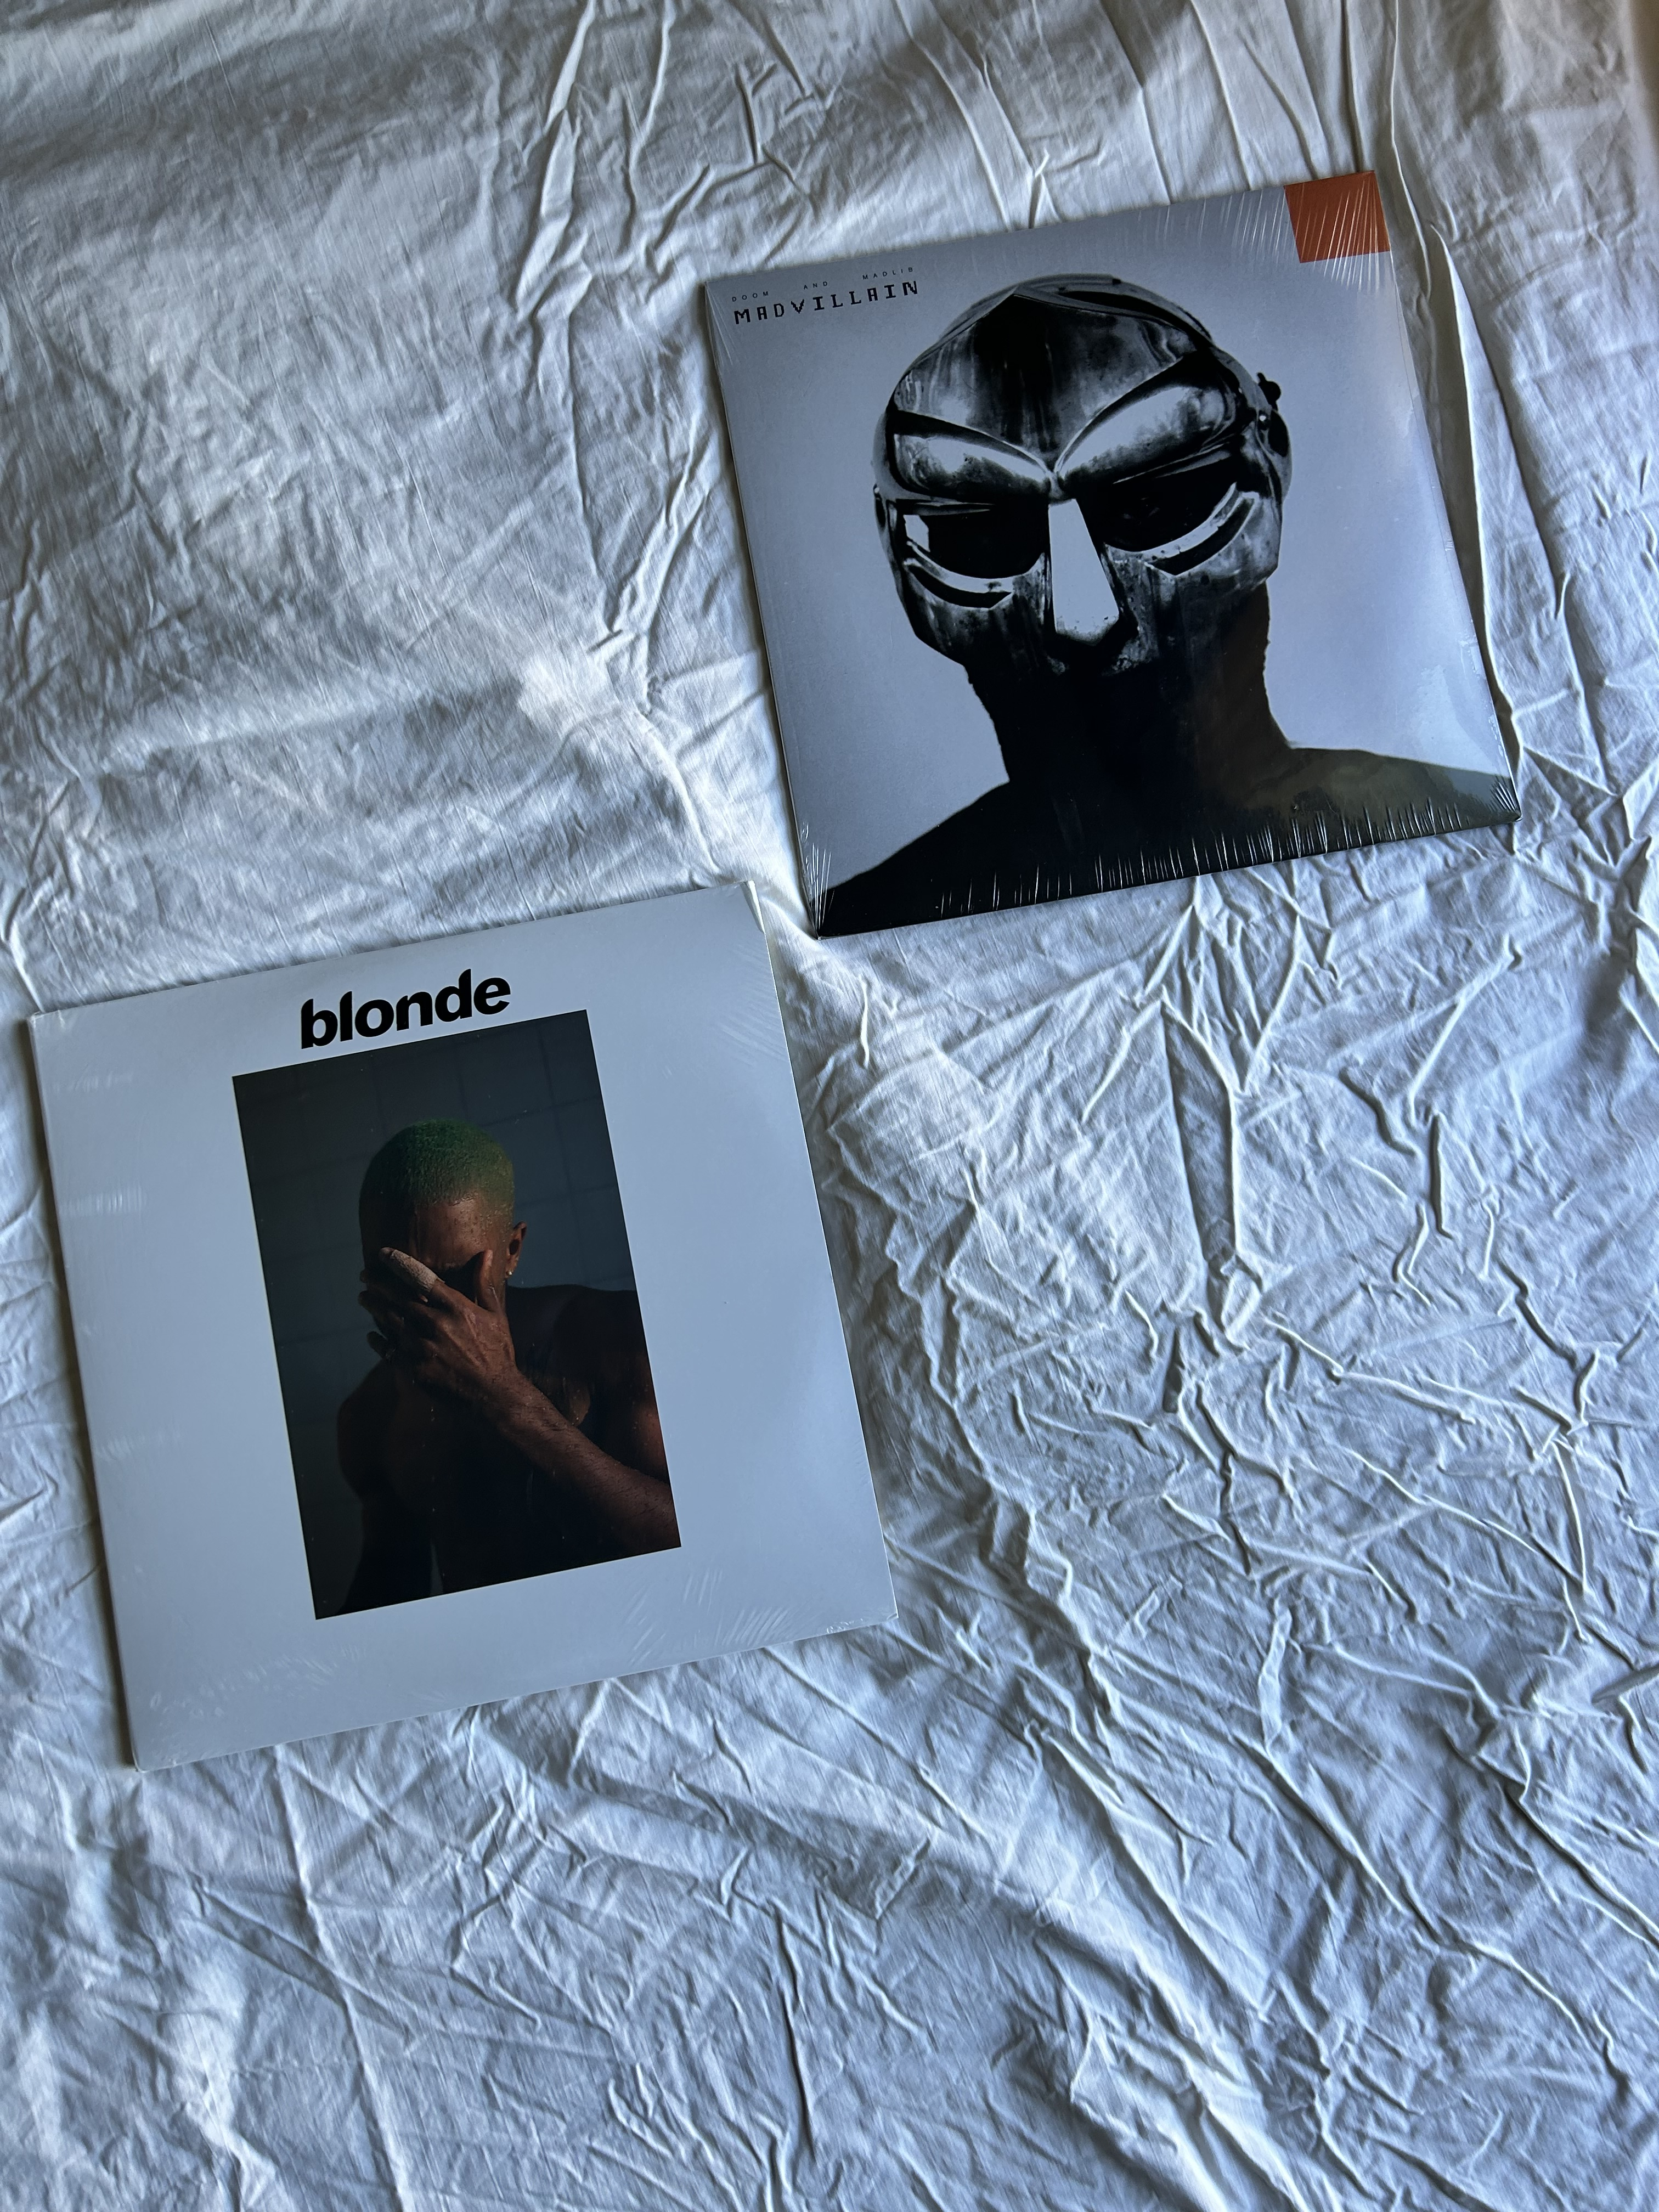frank ocean_blonde: (16, 991, 793, 1768)
madvillain_madvillainy: (678, 273, 1424, 956)
